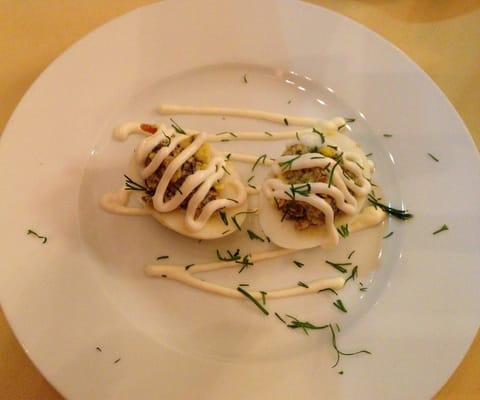curry: (0, 1, 465, 392)
